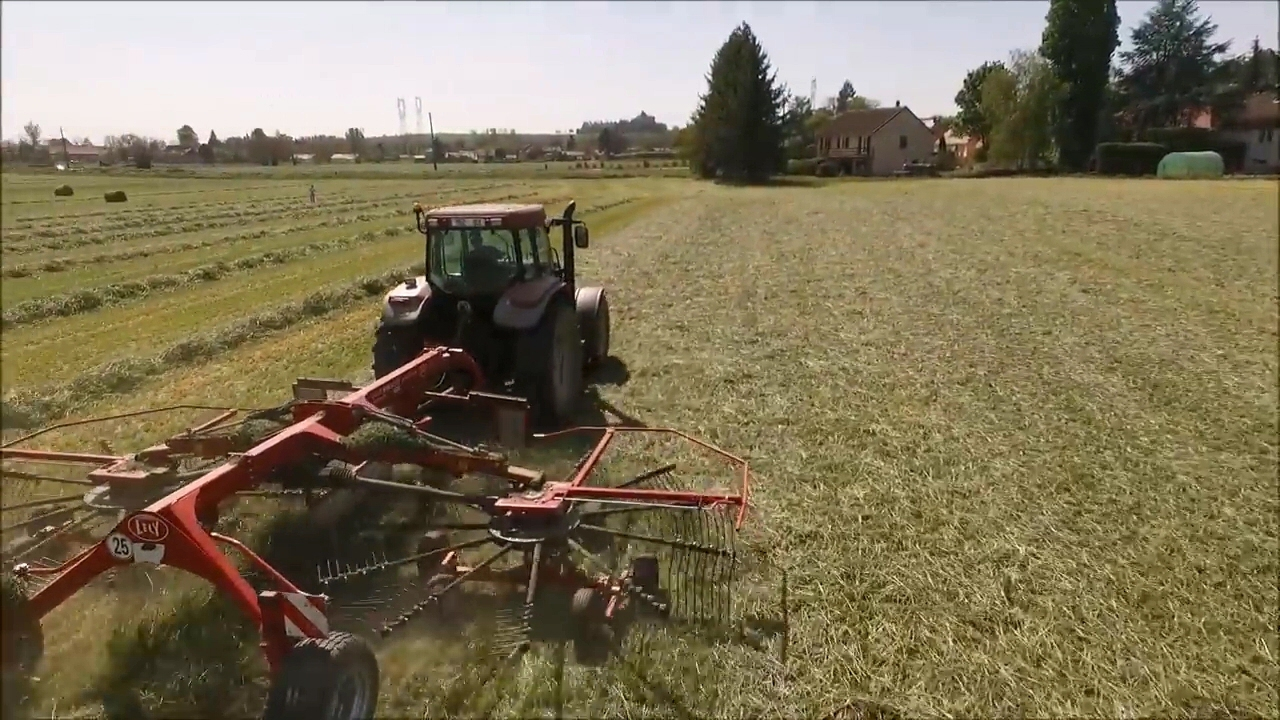insan: (305, 182, 316, 204)
traktor: (373, 203, 614, 424)
